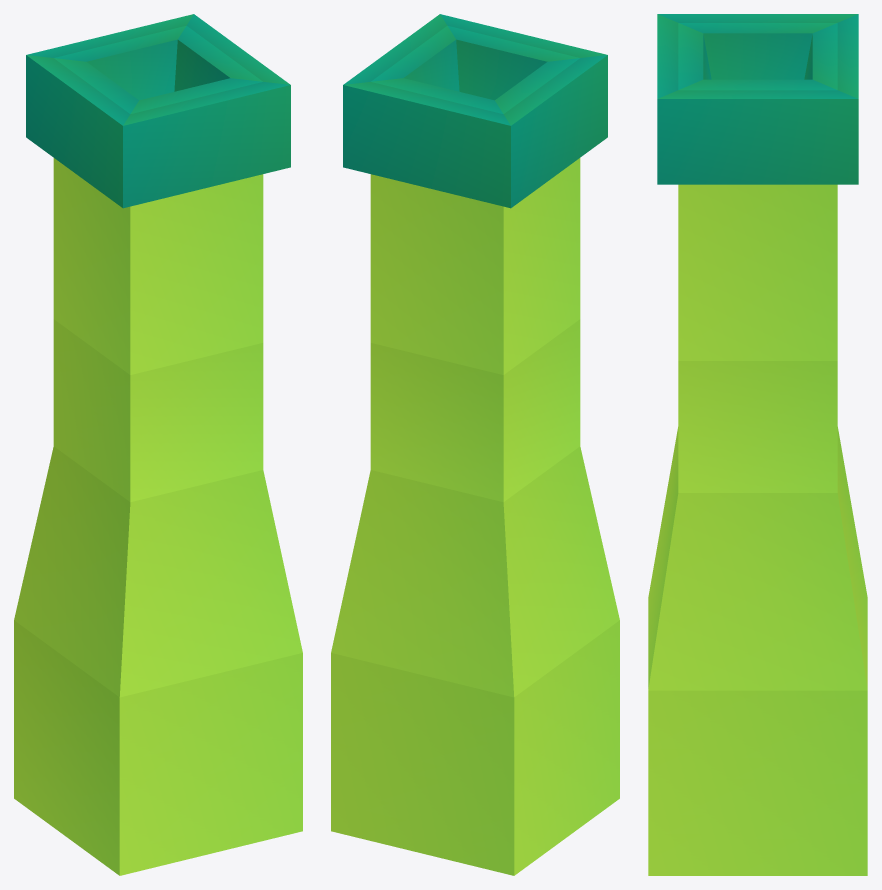
File: TocheiroTexture.fbx
3 renders of one model, left to right at view 1: azimuth 30°, elevation 25°; view 2: azimuth 150°, elevation 25°; view 3: azimuth 270°, elevation 25°, orthographic. The views are drawn at different scales.
Parts seen in each view (by area): view 1: TocheiroR; view 2: TocheiroR; view 3: TocheiroR.
Boxes of the visible parts, x1,y1,x2,y2 form: TocheiroR: (14, 14, 302, 875); TocheiroR: (331, 14, 619, 875); TocheiroR: (648, 14, 867, 875).
Size of the model in its own units: 0.7328 by 2.85 by 0.7328.
